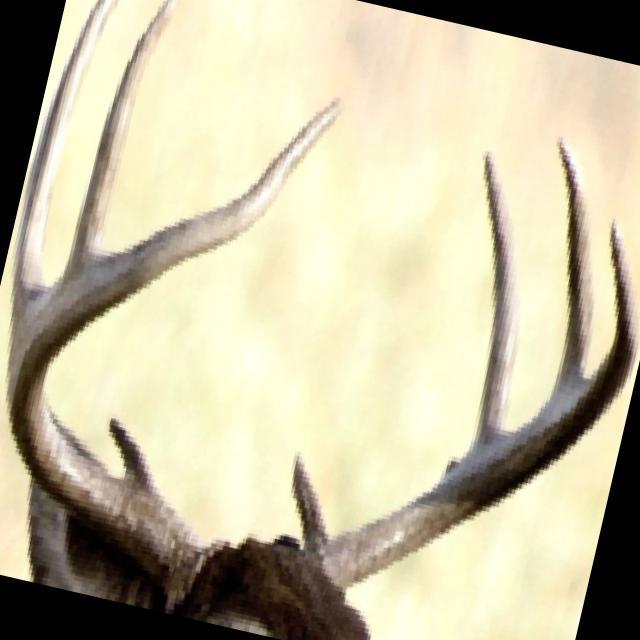L-F: (306, 213, 639, 591)
L-G1: (288, 446, 330, 555)
L-G2: (468, 147, 519, 450)
L-G3: (549, 130, 594, 397)
R-F: (6, 94, 347, 612)
R-G1: (106, 412, 154, 491)
R-G2: (9, 0, 119, 328)
R-G3: (62, 0, 177, 277)
